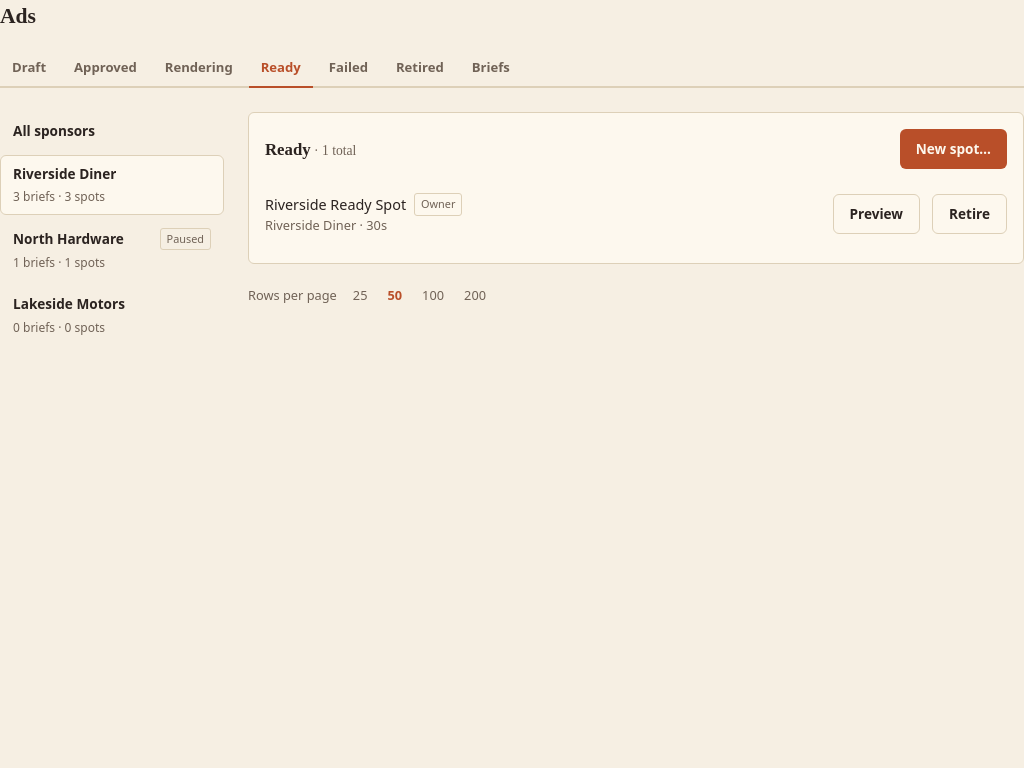
Test case: Feature: The Ads page groups by sponsor › Scenario: selecting a sponsor scopes the right pane › opens New spot with the selected sponsor preselected — AC2
Click the button "New spot…": (953, 149) [900,129,1007,169]
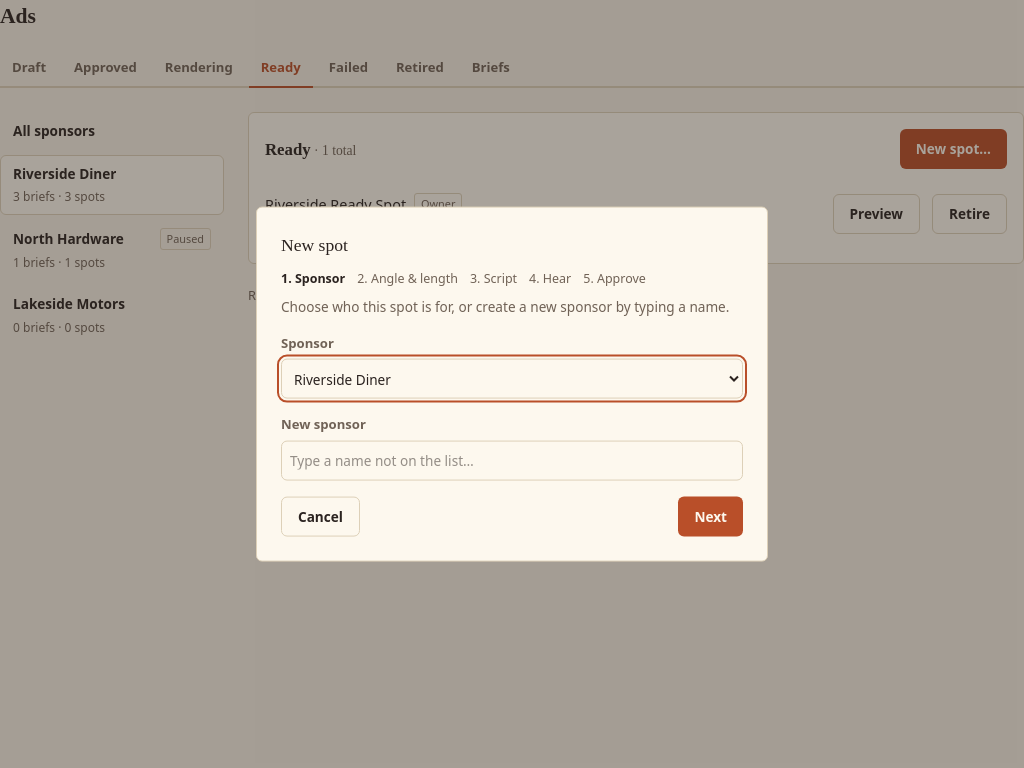
Now the dropdown labelled "Sponsor" shows "Riverside Diner", box [281,359,743,399]
